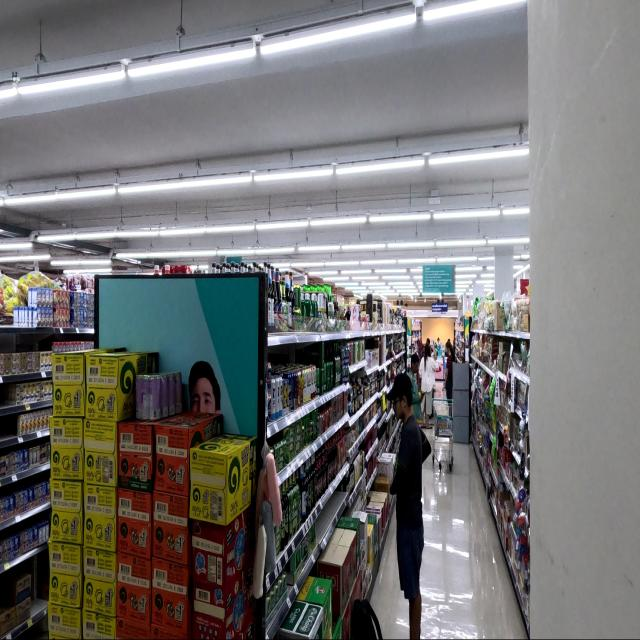shoplifting: (386, 371, 425, 640)
